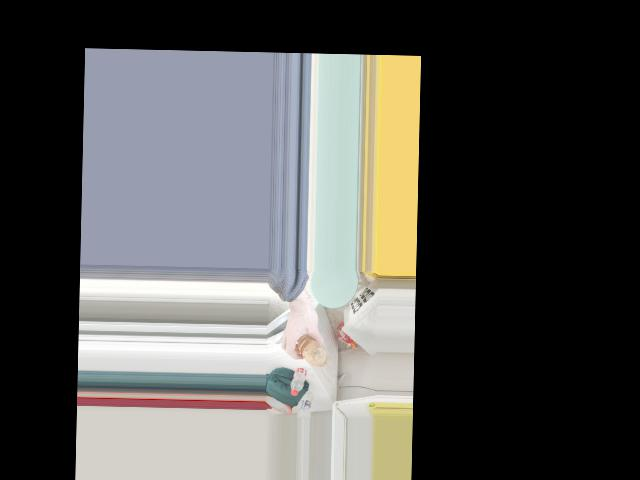sweet_potato: (296, 332, 326, 365)
